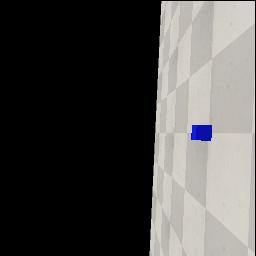box: (191, 125, 212, 141)
